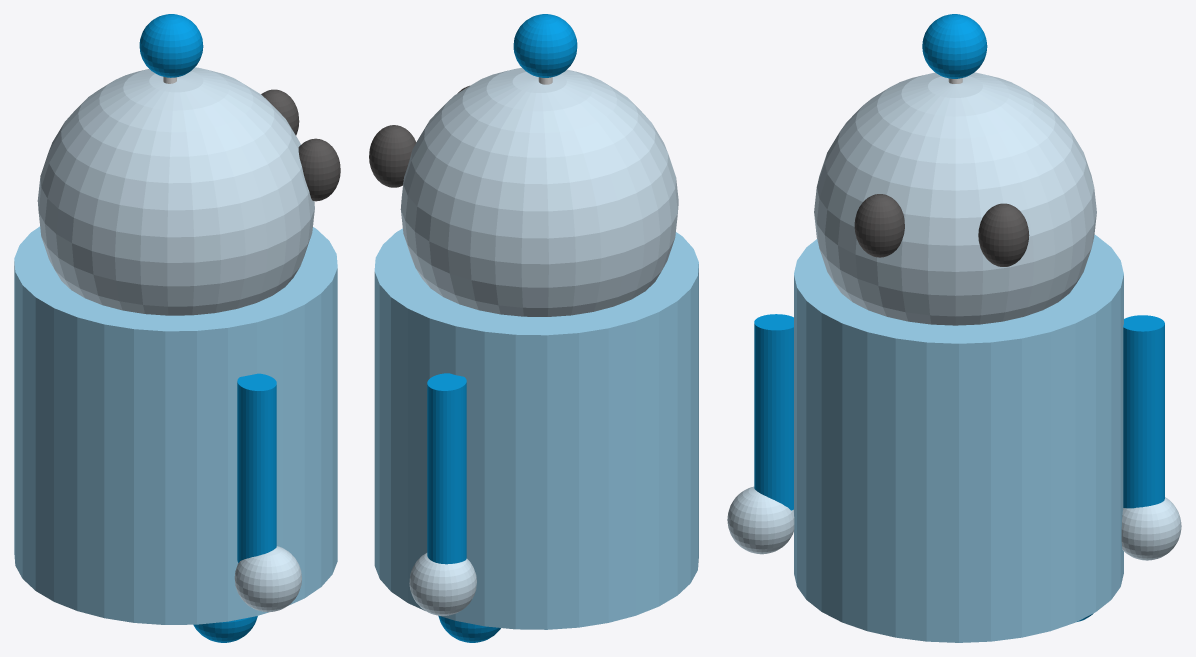
3 views of the same model, side by side, from view 1: azimuth 30°, elevation 25°; view 2: azimuth 150°, elevation 25°; view 3: azimuth 270°, elevation 25° (orthographic).
Parts seen in each view (by area): view 1: 円柱, 球, 円柱.002, 球.007, 球.001, 球.002, 球.005, 球.004; view 2: 円柱, 球, 円柱.003, 球.001, 球.008, 球.004, 球.006; view 3: 円柱, 球, 円柱.003, 円柱.002, 球.001, 球.007, 球.008, 球.004, 球.002.
Part boxes in pixels (x1,y1,x2,y2): 円柱: (14,226,337,624); 球: (37,67,314,315); 円柱.002: (237,373,276,562); 球.007: (234,546,301,612); 球.001: (139,14,203,77); 球.002: (298,138,340,201); 球.005: (193,616,257,642); 球.004: (261,89,299,135); 円柱: (374,228,698,629); 球: (400,68,678,316); 円柱.003: (427,373,466,564); 球.001: (513,14,577,77); 球.008: (409,553,476,615); 球.004: (369,125,416,187); 球.006: (438,615,500,642); 円柱: (794,235,1123,642); 球: (814,72,1096,325); 円柱.003: (1123,315,1164,508); 円柱.002: (754,314,793,510); 球.001: (922,14,987,78); 球.007: (727,486,794,554); 球.008: (1121,497,1181,560); 球.004: (978,203,1029,266); 球.002: (854,194,904,257).
Size of the model in its own units: 1.41 by 2.8 by 1.93.
